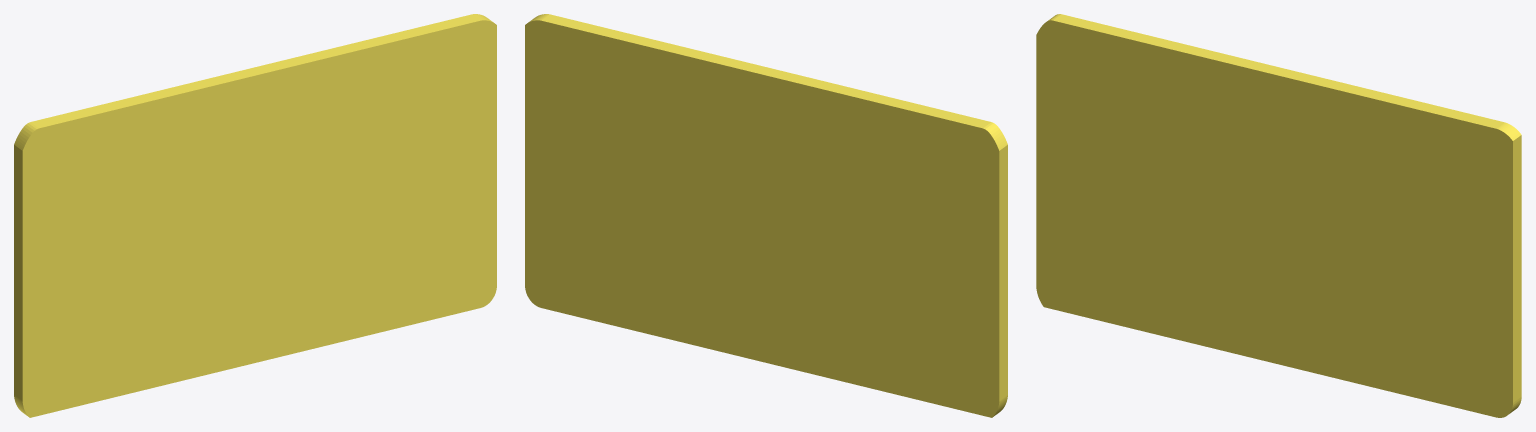
File: amphibot_tail.dae
The picture shows the model from 3 angles, left to right: view 1: azimuth 30°, elevation 25°; view 2: azimuth 150°, elevation 25°; view 3: azimuth 330°, elevation 25°; orthographic projection.
Parts seen in each view (by area): view 1: amphibot_tail; view 2: amphibot_tail; view 3: amphibot_tail.
Part boxes in pixels (left/top/right/bottom): amphibot_tail: left=14, top=14, right=496, bottom=417; amphibot_tail: left=525, top=14, right=1007, bottom=417; amphibot_tail: left=1036, top=14, right=1521, bottom=417.
Bounding box in the file's own units: 0.095 × 0.003 × 0.055.
